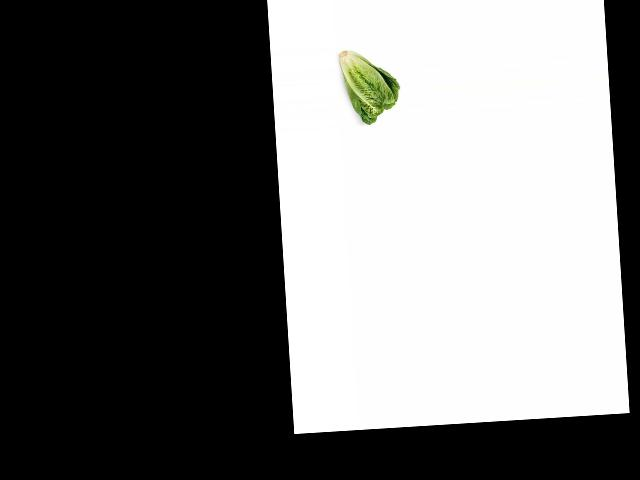lettuce: (336, 42, 401, 126)
